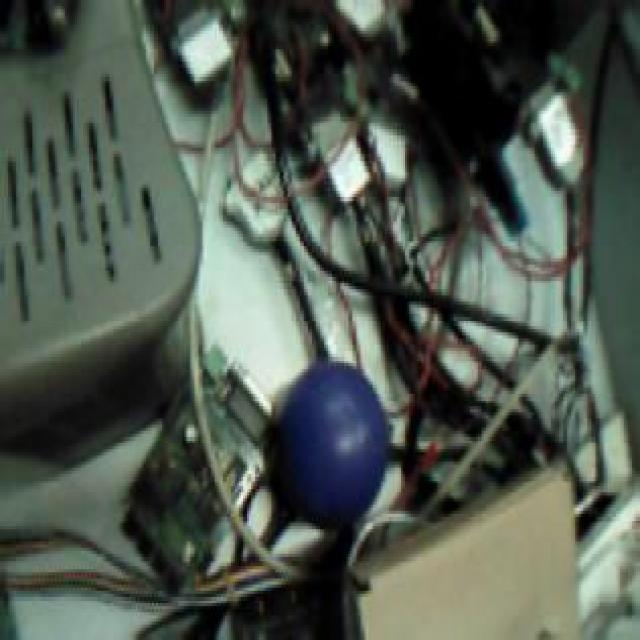BallPurple: (271, 362, 388, 528)
